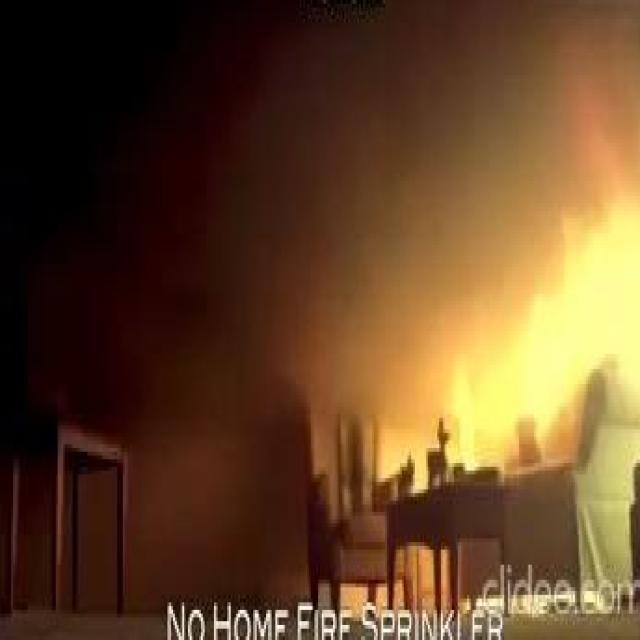smoke: (377, 169, 640, 474)
